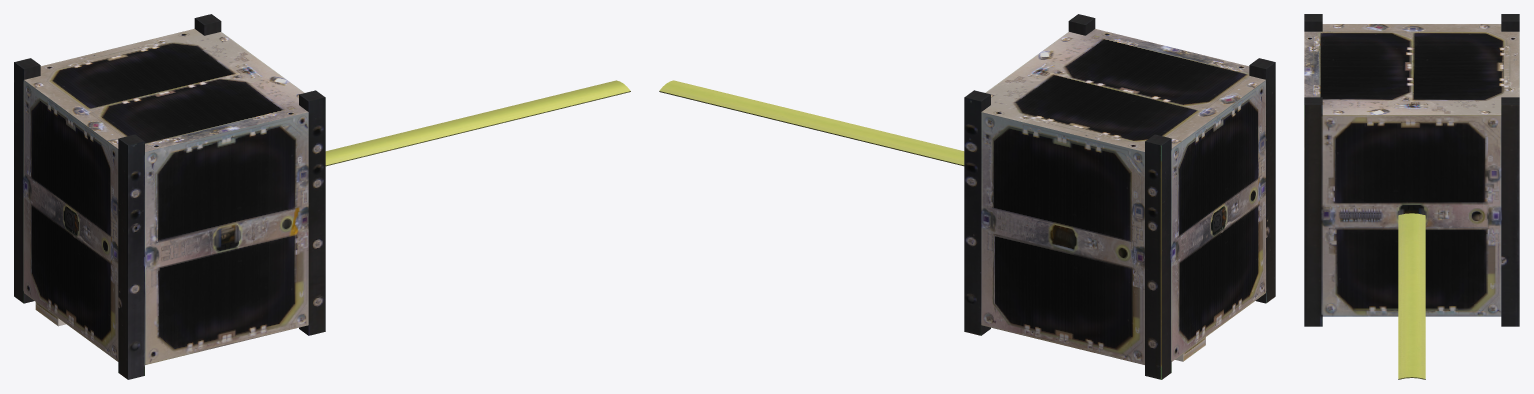
The model's file is M-Cubed2.glb.
3 views of the same model, side by side, from view 1: azimuth 30°, elevation 25°; view 2: azimuth 150°, elevation 25°; view 3: azimuth 270°, elevation 25° (orthographic). The views are drawn at different scales.
Visible parts, largest first — view 1: M-Cubed 2, Antenna; view 2: M-Cubed 2, Antenna; view 3: M-Cubed 2, Antenna.
Part boxes in pixels (x1,y1,x2,y2): M-Cubed 2: (14, 14, 325, 379); Antenna: (325, 80, 630, 166); M-Cubed 2: (964, 14, 1275, 379); Antenna: (659, 80, 964, 166); M-Cubed 2: (1304, 14, 1519, 326); Antenna: (1398, 213, 1425, 379).
Size of the model in its own units: 0.2799 by 0.1135 by 0.1.
Materials: 1 (1 with a texture image).
